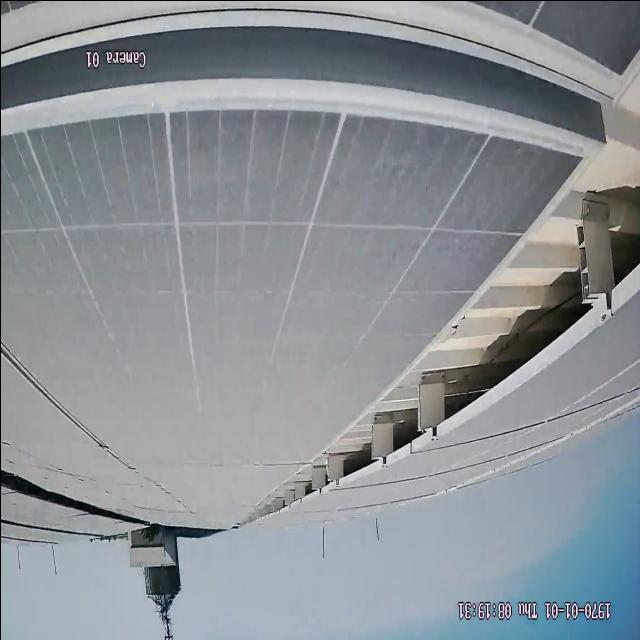interior panel: (7, 0, 608, 145)
outher panel: (254, 98, 637, 523)
